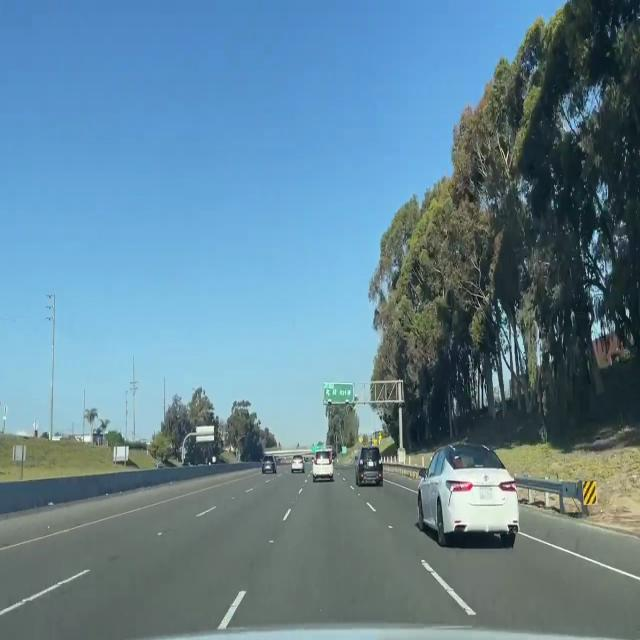street-signs: (323, 381, 354, 403), (310, 445, 322, 453)
